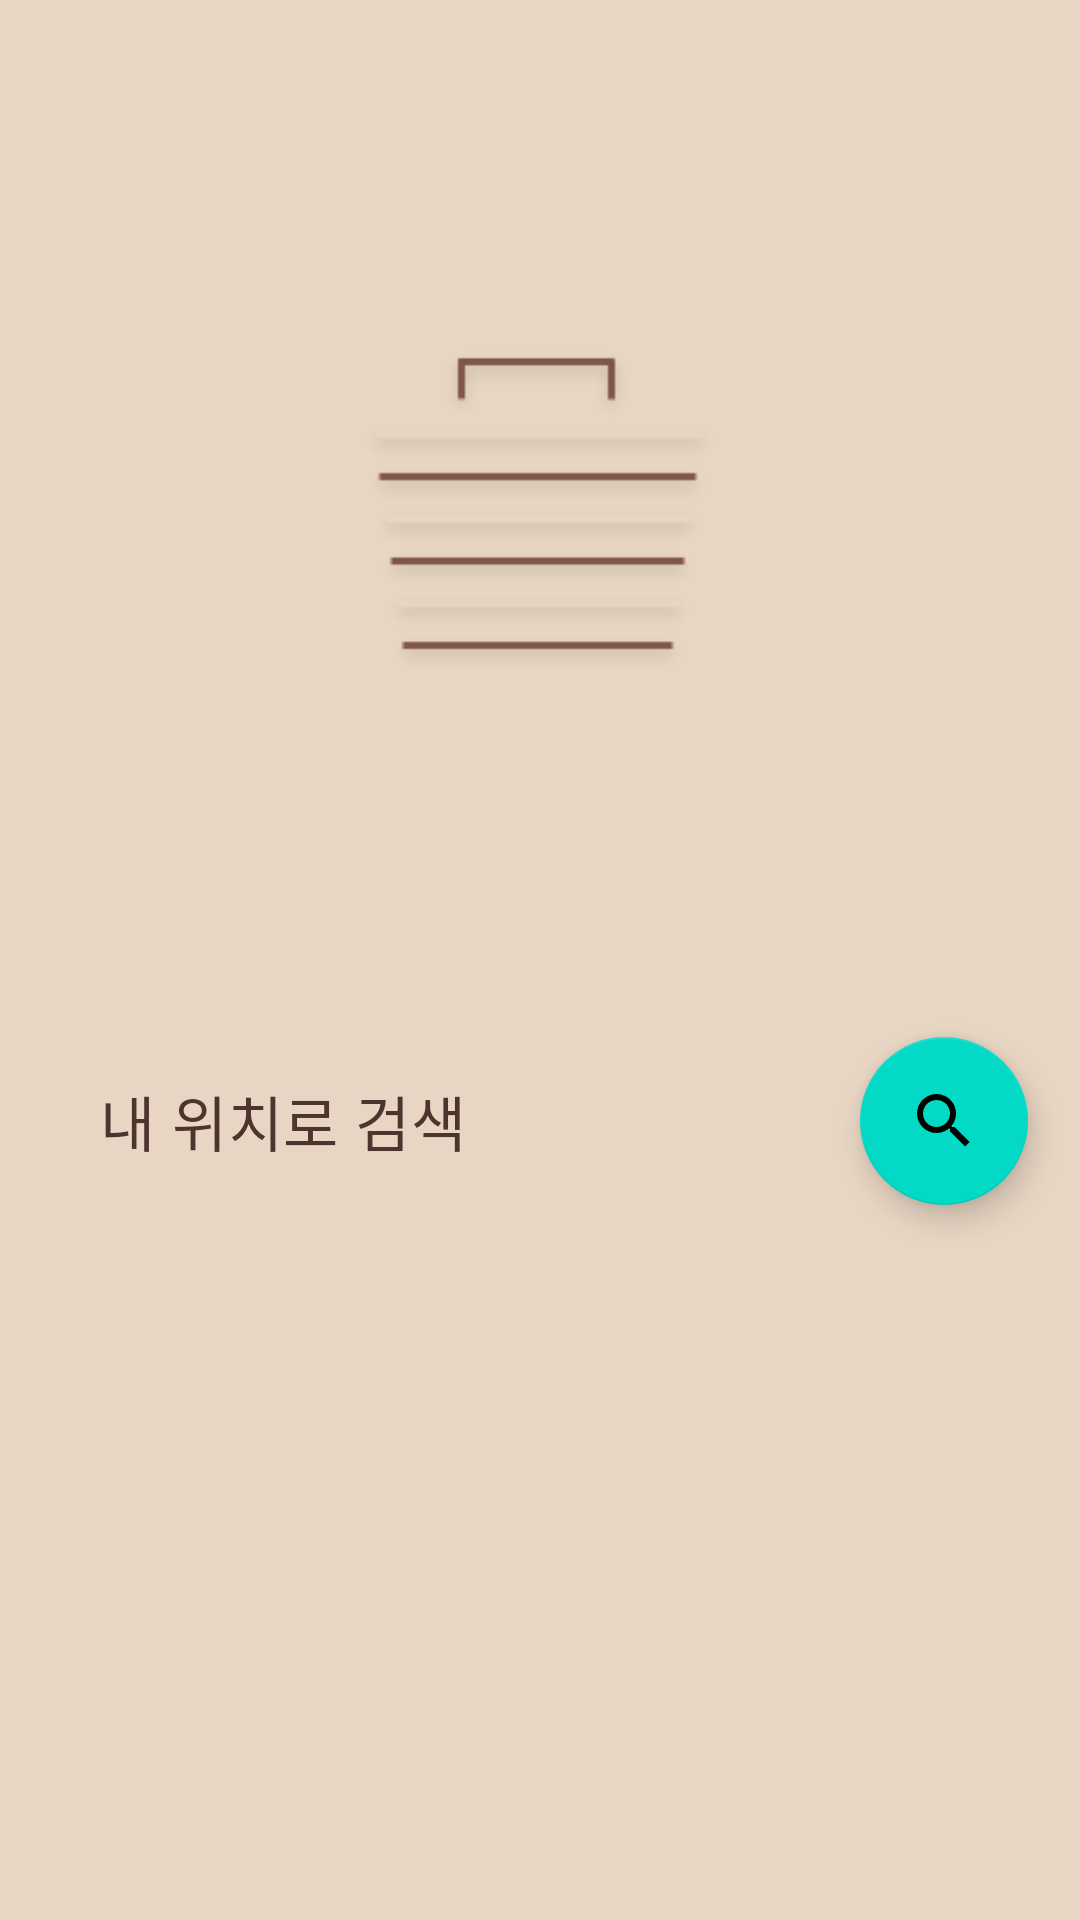

Named icons in this screenshot (1080w x 1920h) and their bounding boxes, detection(x1, y1, x2, y2):
magnify: detection(860, 1037, 1028, 1205)
